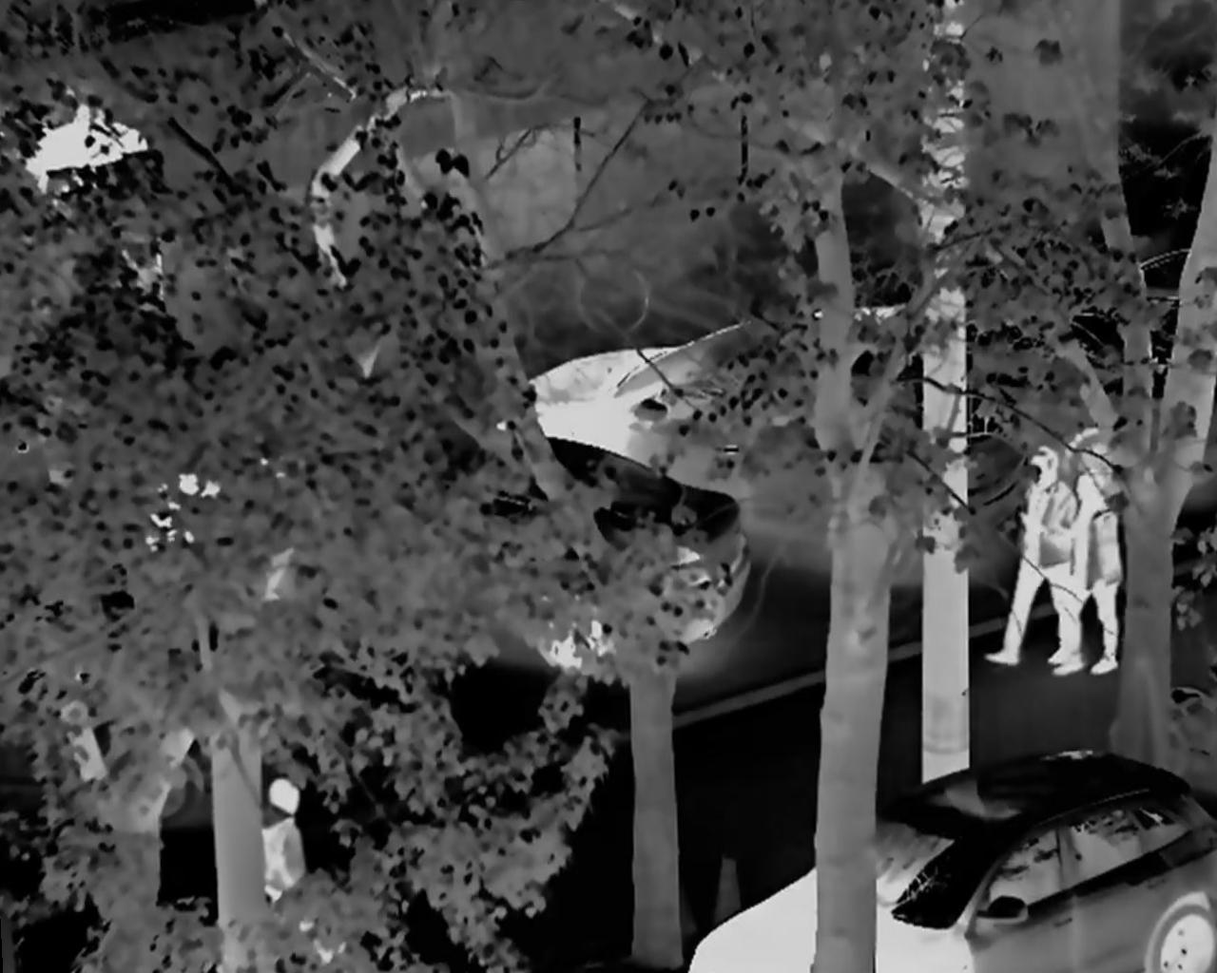person: (994, 444, 1082, 670), (255, 777, 348, 973), (1061, 470, 1125, 680)
